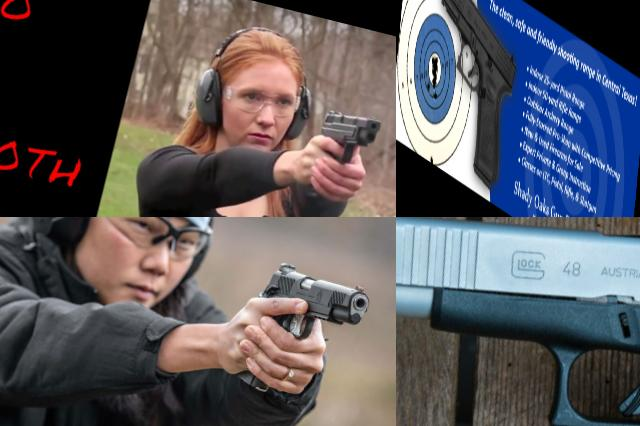handgun: (396, 217, 640, 426), (228, 255, 378, 417), (426, 0, 522, 202), (309, 102, 386, 182)
